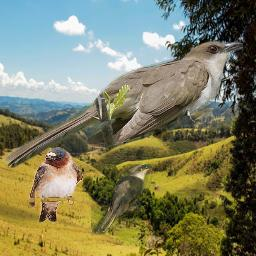Cuckoo: (2, 39, 243, 168), (91, 164, 153, 236)
Swallow: (29, 147, 83, 223)
